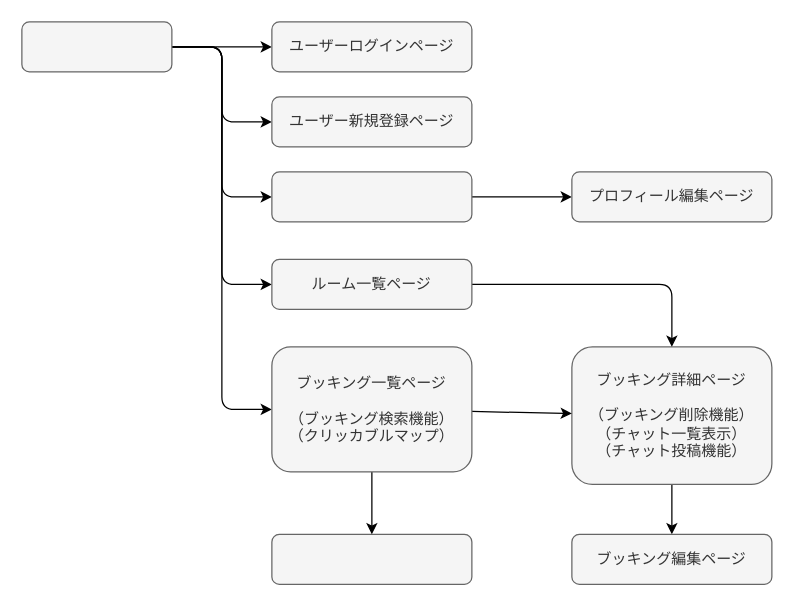
This 794x606 diagram has some shape labels left out. Each missing label, with the centre of its shape:
"トップページ" belongs at point 96,46.
"ブッキング投稿ページ" belongs at point 371,558.
"プロフィール詳細ページ" belongs at point 371,196.
